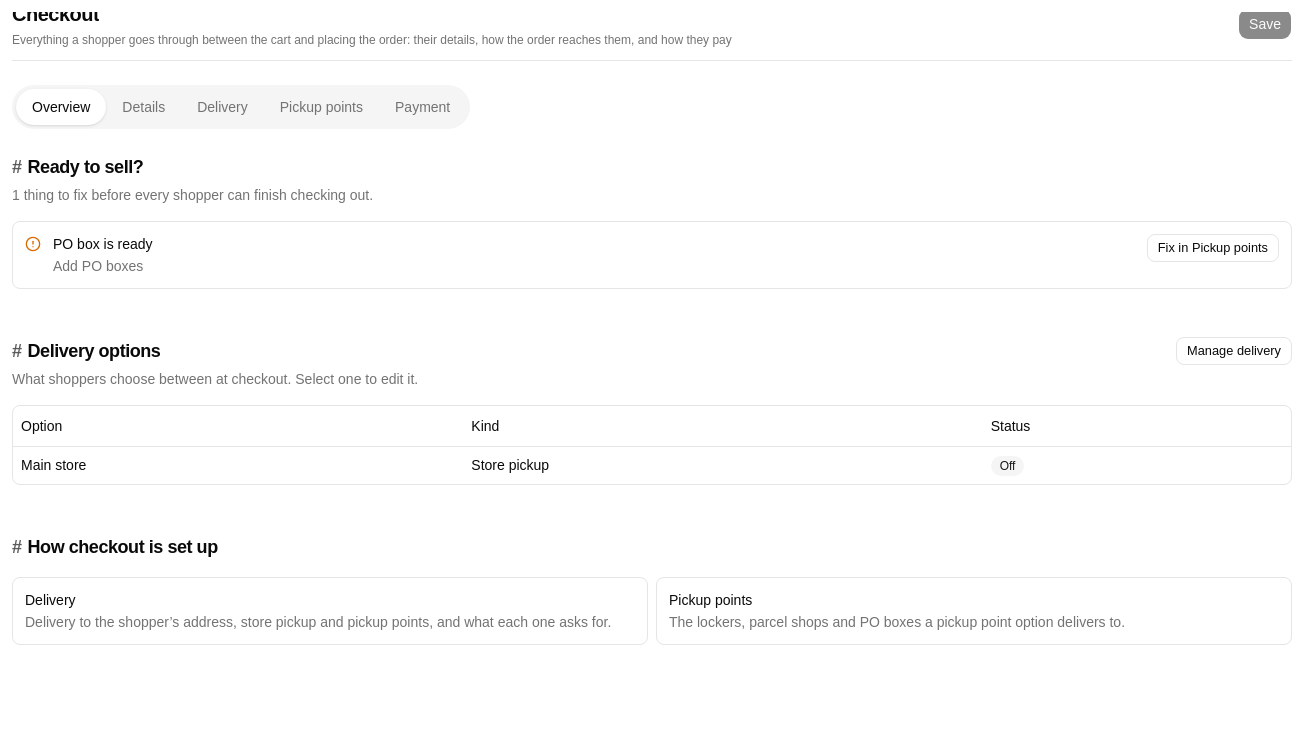
it: links a failing go-live check to the tab that fixes it
This screenshot has width=1304, height=747.
Click the button "Fix in Pickup points" at (1213, 248), box x1=1147 y1=234 x2=1279 y2=262
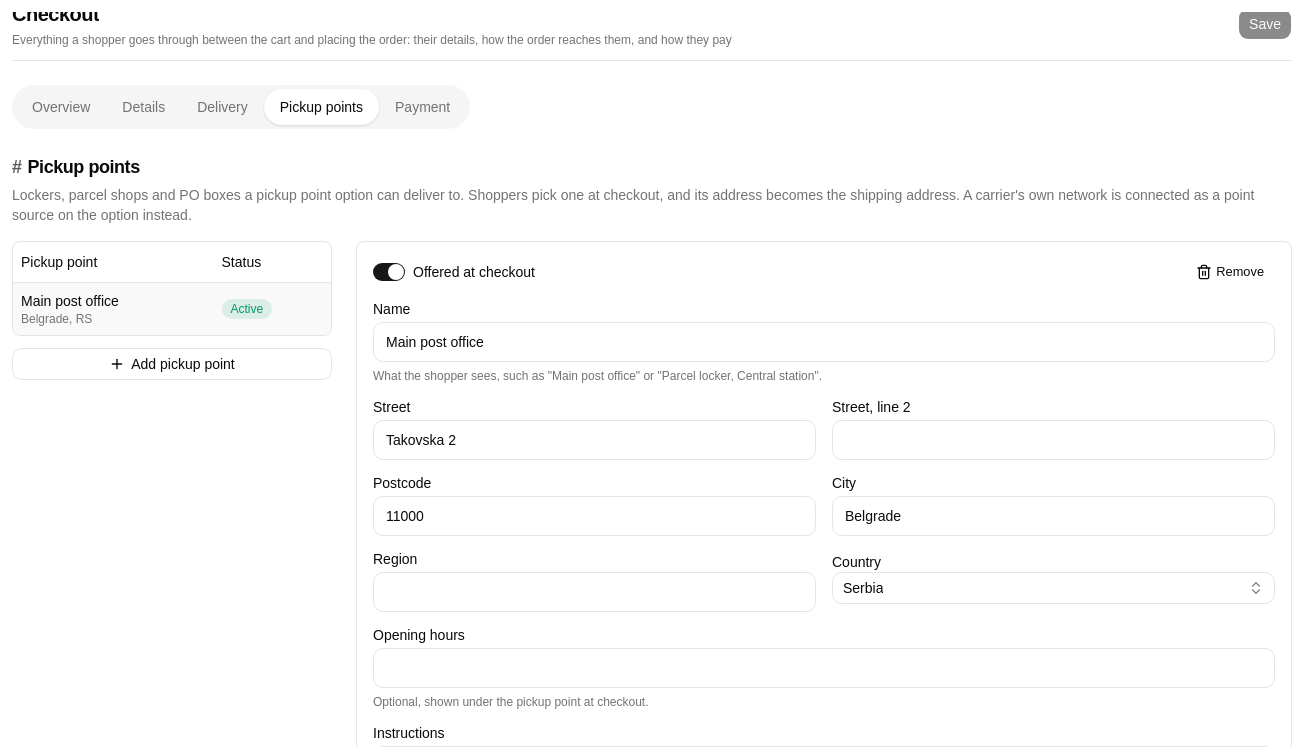
Expected: the heading "# Pickup points" is shown, x1=12 y1=157 x2=140 y2=177
